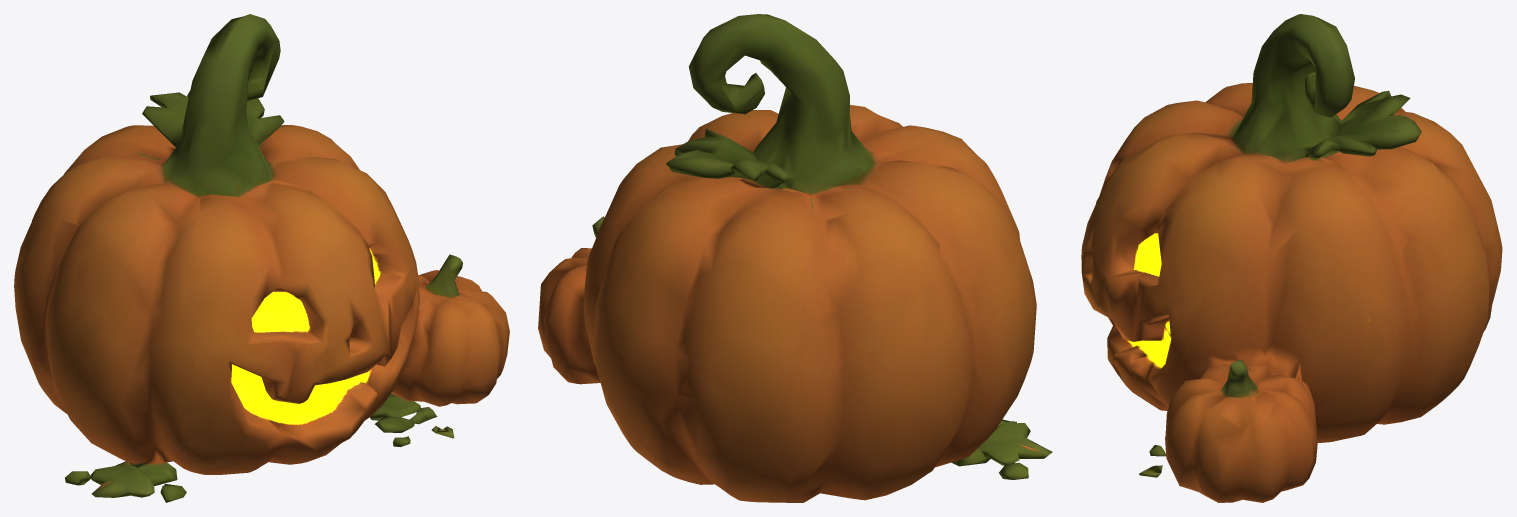
Rendered from gy_pumpkin-YdGiLJ-K.glb.
3 renders of one model, left to right at view 1: azimuth 30°, elevation 25°; view 2: azimuth 150°, elevation 25°; view 3: azimuth 270°, elevation 25°, orthographic. The views are drawn at different scales.
Parts seen in each view (by area): view 1: tripo_node_189a6afe-ae5c-485a-9d7c-4702fae81d6f; view 2: tripo_node_189a6afe-ae5c-485a-9d7c-4702fae81d6f; view 3: tripo_node_189a6afe-ae5c-485a-9d7c-4702fae81d6f.
Boxes of the visible parts, x1,y1,x2,y2 form: tripo_node_189a6afe-ae5c-485a-9d7c-4702fae81d6f: (14,14,509,502); tripo_node_189a6afe-ae5c-485a-9d7c-4702fae81d6f: (538,14,1052,502); tripo_node_189a6afe-ae5c-485a-9d7c-4702fae81d6f: (1081,14,1502,502).
Size of the model in its own units: 1 by 0.8673 by 0.8317.
Materials: 1 (1 with a texture image).
